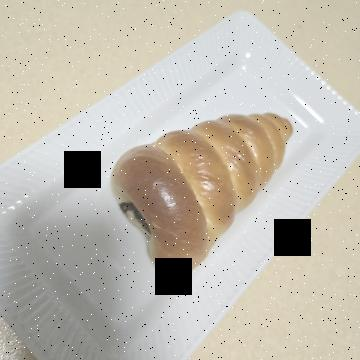cream horn: (87, 47, 301, 262)
